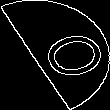O_SW: (13, 24, 97, 86)
